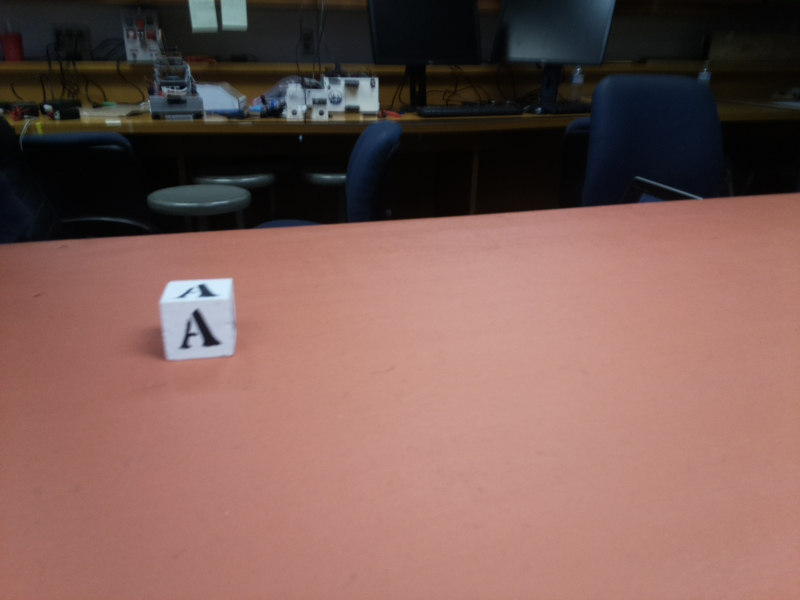blockA: (154, 272, 237, 366)
